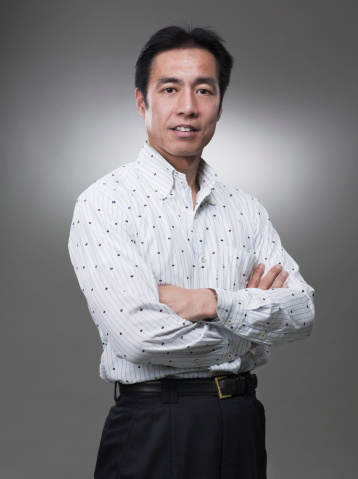em pe: (76, 14, 292, 479)
